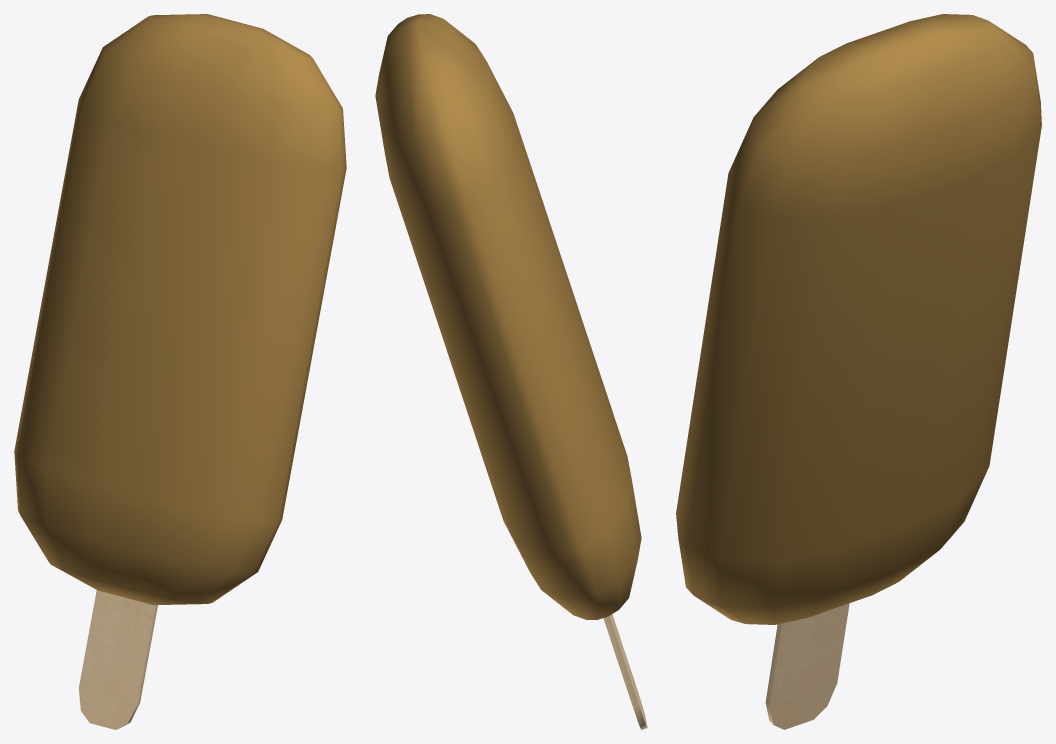
Rendered from singleEskimo-transformed.glb.
The picture shows the model from 3 angles, left to right: view 1: azimuth 30°, elevation 25°; view 2: azimuth 150°, elevation 25°; view 3: azimuth 270°, elevation 25°; orthographic projection. The views are drawn at different scales.
Parts seen in each view (by area): view 1: Cube, Cube.1; view 2: Cube, Cube.1; view 3: Cube, Cube.1.
Part boxes in pixels (x1,y1,x2,y2): Cube: (14,14,346,605); Cube.1: (78,590,157,729); Cube: (375,14,641,619); Cube.1: (603,614,647,729); Cube: (676,14,1041,624); Cube.1: (765,603,849,729).
Bounding box in the file's own units: 0.0305 × 0.0703 × 0.0295.
Materials: 2 (1 with a texture image).
